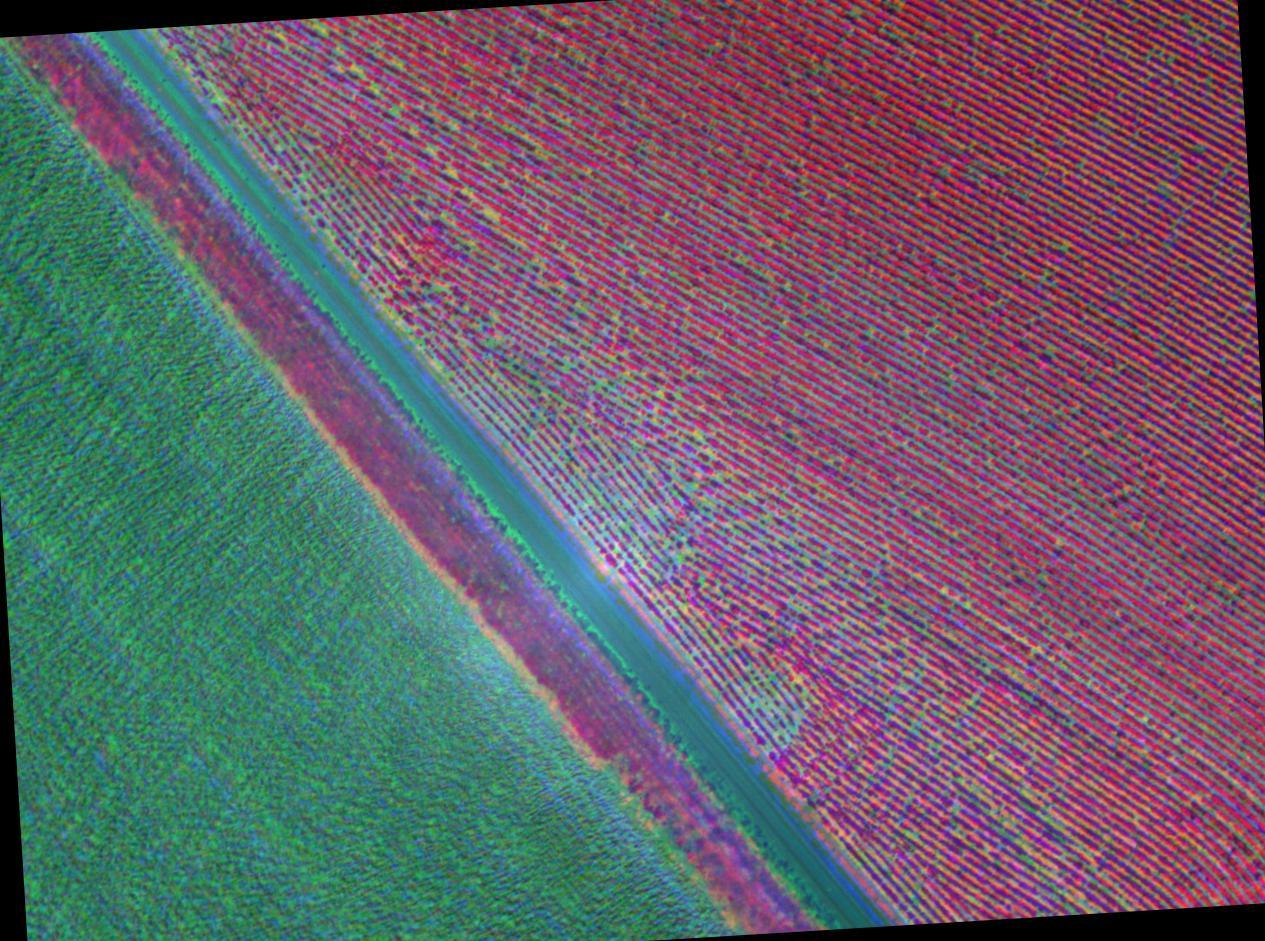dc: (484, 208, 499, 221), (694, 426, 703, 439), (447, 169, 457, 178), (853, 8, 861, 17), (1159, 182, 1166, 190)
